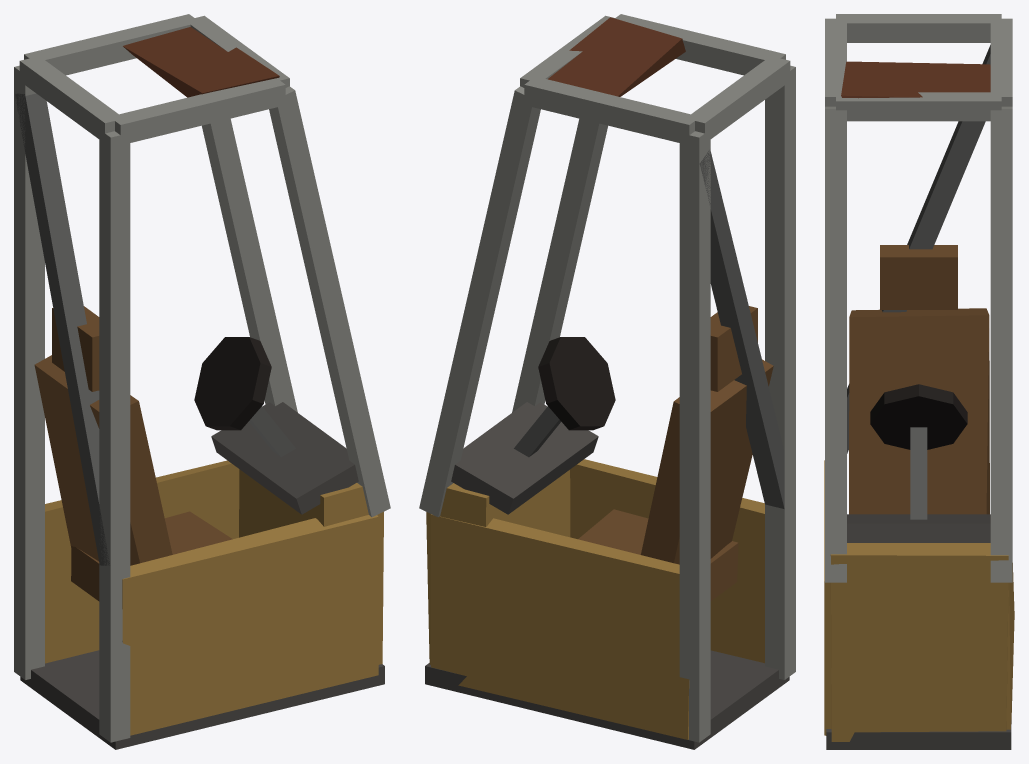
File: cockpit.glb
The picture shows the model from 3 angles, left to right: view 1: azimuth 30°, elevation 25°; view 2: azimuth 150°, elevation 25°; view 3: azimuth 270°, elevation 25°; orthographic projection. The views are drawn at different scales.
Visible parts, largest first — view 1: cockpit; view 2: cockpit; view 3: cockpit.
Boxes of the visible parts, left/top/right/bottom form: cockpit: left=14, top=14, right=390, bottom=749; cockpit: left=419, top=14, right=795, bottom=749; cockpit: left=824, top=14, right=1014, bottom=749.
Size of the model in its own units: 0.6444 by 1.38 by 0.3907.
